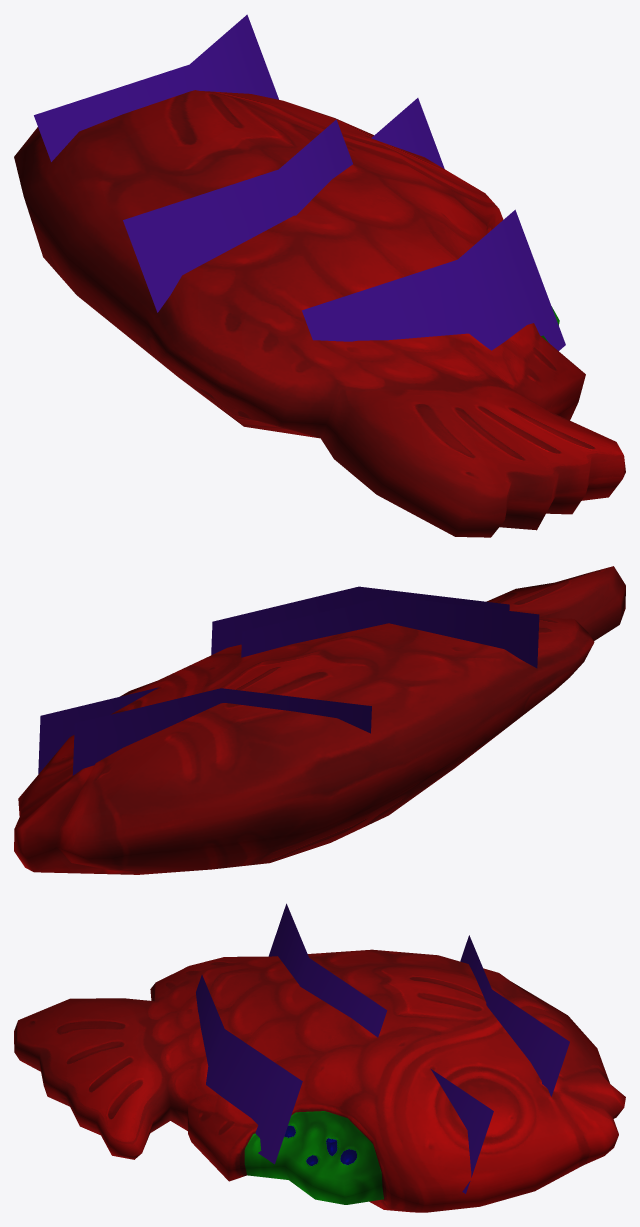
The picture shows the model from 3 angles, top to bottom: view 1: azimuth 30°, elevation 25°; view 2: azimuth 150°, elevation 25°; view 3: azimuth 270°, elevation 25°; orthographic projection. The views are drawn at different scales.
Parts seen in each view (by area): view 1: B1287, "Editable Poly"; view 2: B1287, "Editable Poly"; view 3: B1287, "Editable Poly".
Part boxes in pixels (box(x1,y1,x2,y2)): B1287: box(14, 90, 625, 537); "Editable Poly": box(34, 14, 565, 350); B1287: box(14, 566, 625, 874); "Editable Poly": box(38, 586, 539, 775); B1287: box(14, 949, 625, 1212); "Editable Poly": box(196, 903, 569, 1193).
Bounding box in the file's own units: 0.1476 × 0.0899 × 0.2609.
